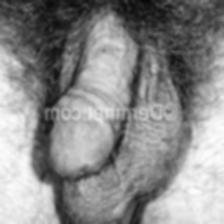Toxin: (101, 42, 113, 56), (78, 66, 92, 78), (82, 162, 91, 173)
